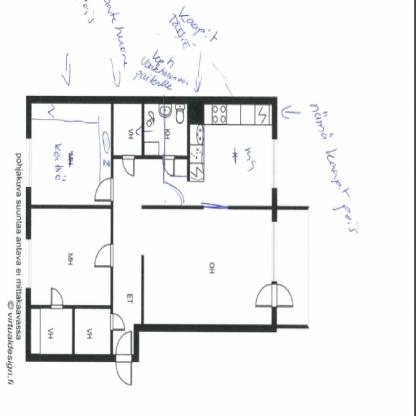door: (251, 279, 295, 314), (115, 327, 134, 387), (93, 174, 116, 200), (94, 243, 116, 270), (121, 156, 139, 182), (49, 285, 66, 307), (162, 154, 176, 179), (110, 312, 126, 332)
window: (24, 138, 34, 186), (271, 222, 278, 282), (272, 138, 279, 188), (25, 237, 31, 288)
zone: (112, 98, 275, 363), (142, 207, 274, 330), (32, 103, 110, 204), (33, 208, 110, 304), (144, 105, 185, 155), (31, 310, 72, 355), (76, 308, 111, 354), (115, 101, 141, 155)
